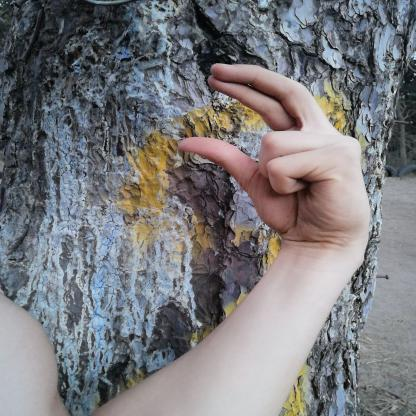DHELL: (164, 53, 388, 253)
